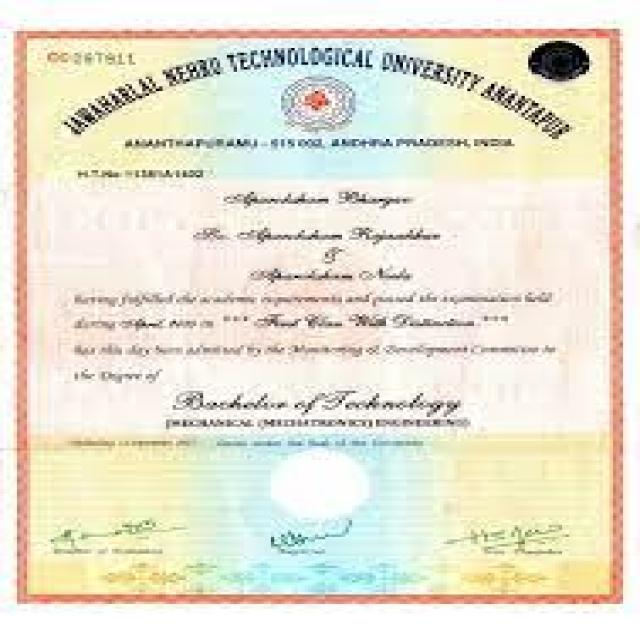degree: (168, 386, 470, 420)
signature: (51, 520, 192, 552), (457, 525, 578, 554), (271, 526, 376, 558)
stamp: (271, 74, 367, 134)
